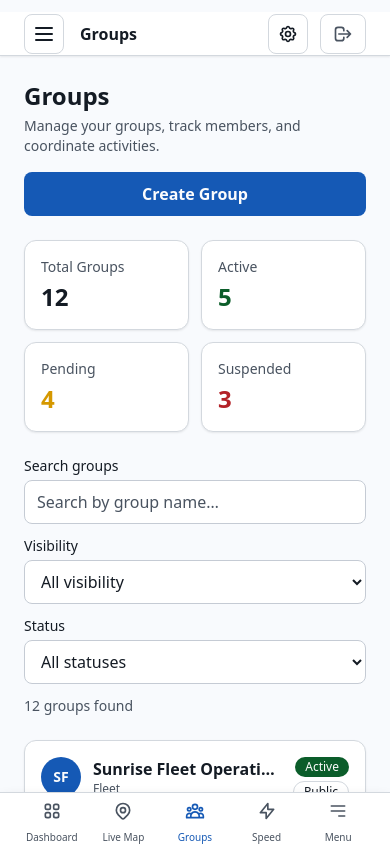
Test: GroupsPage › Clear Filters button resets filters and shows all groups
Type "xyznonexistentgroup123" into the search field labelled "Search groups". click: (195, 502)
box: [24,480,366,524]
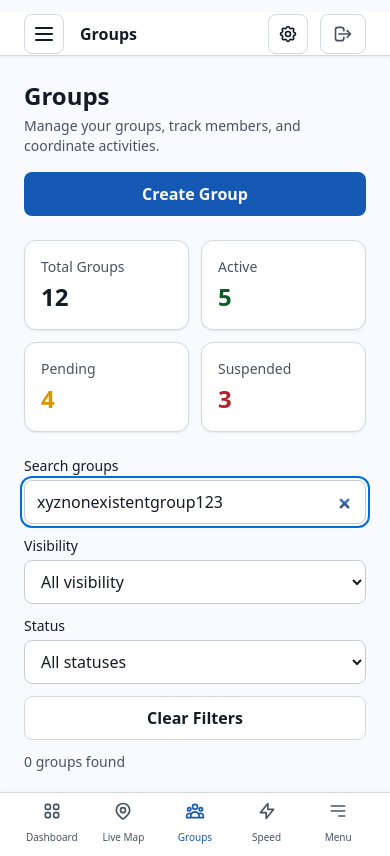
Click the button with aria-label "clear all filters". click: (195, 718)
box: [24,696,366,740]
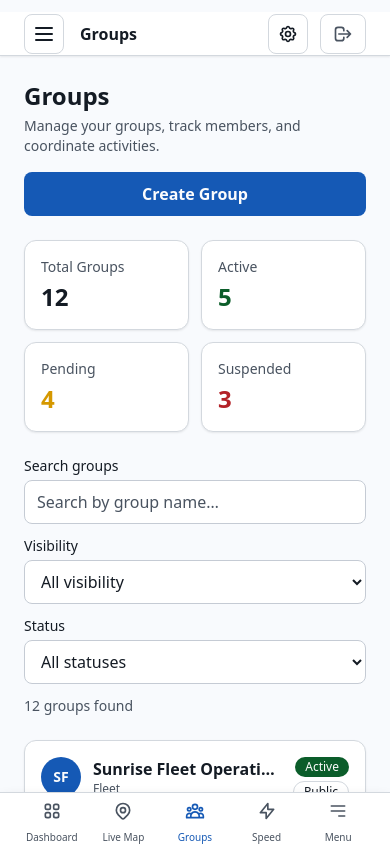
Expected: the heading "Sunrise Fleet Operations" is shown, [93,757,281,781]
